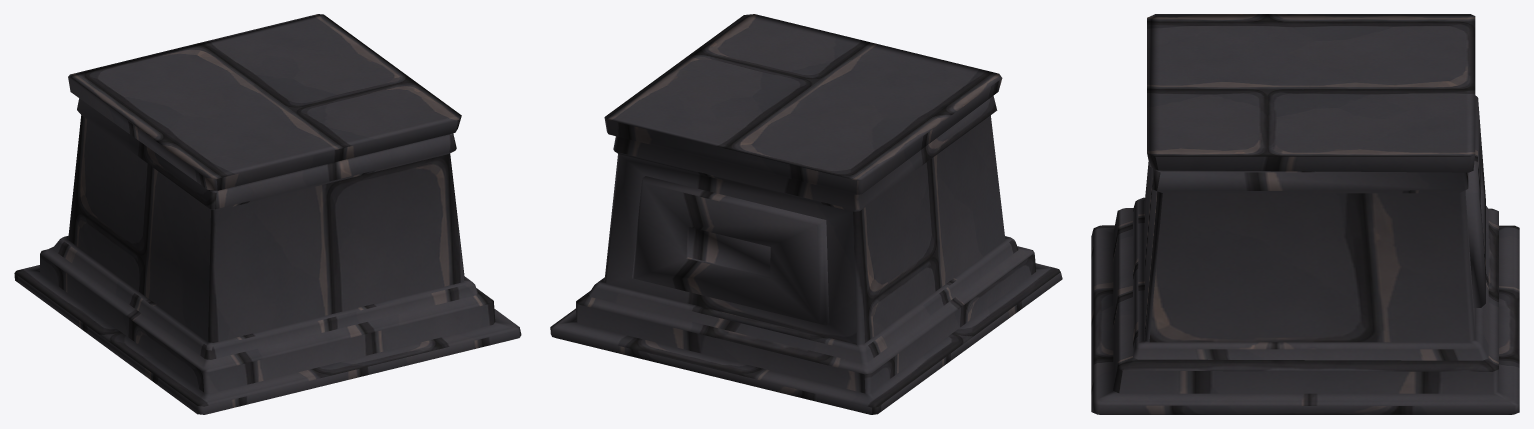
File: Pillar_G.fbx
The picture shows the model from 3 angles, left to right: view 1: azimuth 30°, elevation 25°; view 2: azimuth 150°, elevation 25°; view 3: azimuth 270°, elevation 25°; orthographic projection. The views are drawn at different scales.
Parts seen in each view (by area): view 1: Pillar_G; view 2: Pillar_G; view 3: Pillar_G.
Part boxes in pixels (x1,y1,x2,y2): Pillar_G: (14,14,521,414); Pillar_G: (550,14,1062,414); Pillar_G: (1091,14,1519,414).
Size of the model in its own units: 2.97 by 2.98 by 1.85.
